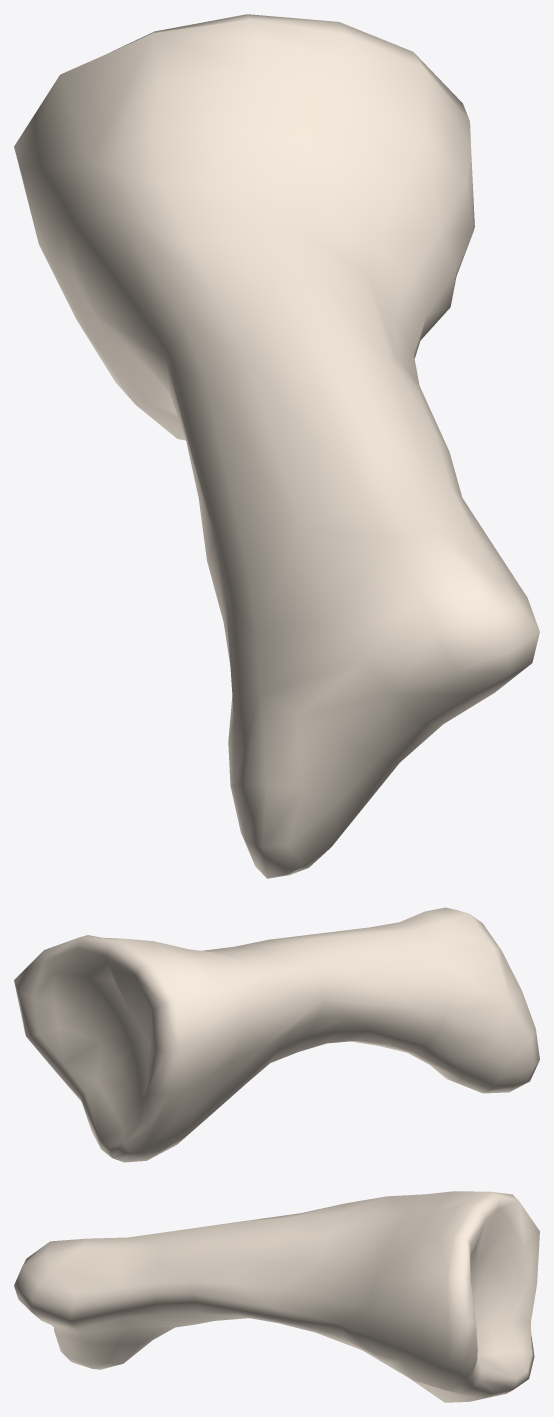
Rendered from right_toe_4_proximal.glb.
3 views of the same model, one above another, from view 1: azimuth 30°, elevation 25°; view 2: azimuth 150°, elevation 25°; view 3: azimuth 270°, elevation 25° (orthographic). The views are drawn at different scales.
Parts seen in each view (by area): view 1: Proximal phalanx of fourth finger of foot.r; view 2: Proximal phalanx of fourth finger of foot.r; view 3: Proximal phalanx of fourth finger of foot.r.
Part boxes in pixels (x1=…): Proximal phalanx of fourth finger of foot.r: x1=14, y1=14, x2=539, y2=878; Proximal phalanx of fourth finger of foot.r: x1=14, y1=907, x2=539, y2=1162; Proximal phalanx of fourth finger of foot.r: x1=14, y1=1191, x2=539, y2=1402.
Size of the model in its own units: 0.0106 by 0.00809 by 0.0158.
